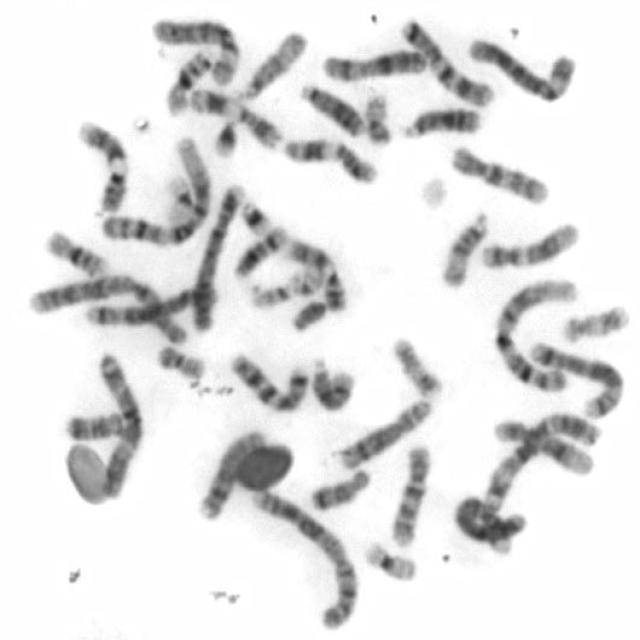A1: (98, 131, 214, 249), (489, 271, 580, 395)
A2: (244, 481, 362, 632), (21, 269, 193, 347)
A3: (479, 408, 602, 510), (88, 346, 146, 501)
B4: (187, 176, 248, 334), (449, 487, 529, 546)
B5: (526, 337, 626, 419), (76, 279, 215, 328)
C10: (444, 139, 552, 207), (385, 437, 436, 549)
C11: (188, 84, 284, 152), (277, 131, 379, 186)
C12: (490, 412, 594, 477), (475, 216, 582, 271)
C6: (464, 31, 580, 104), (147, 12, 243, 88)
C7: (396, 13, 496, 108), (226, 346, 310, 414)
C8: (333, 393, 435, 472), (191, 423, 268, 522)
C9: (70, 113, 132, 215), (282, 233, 348, 311)
D13: (295, 77, 366, 138), (396, 102, 484, 140)
D14: (229, 221, 290, 280), (308, 354, 356, 412)
D15: (234, 24, 309, 103), (436, 207, 490, 289)
E16: (40, 223, 111, 279), (160, 46, 212, 117)
E17: (388, 331, 446, 398), (555, 296, 633, 344)
E18: (304, 464, 373, 513), (60, 407, 124, 442)
F19: (359, 536, 420, 583), (157, 166, 197, 223)
F20: (151, 338, 206, 378), (359, 87, 395, 148)
G21: (236, 193, 276, 238), (208, 116, 240, 159)
G22: (246, 278, 298, 310), (284, 261, 326, 297)
X: (317, 45, 428, 84)
Y: (286, 294, 329, 333)
